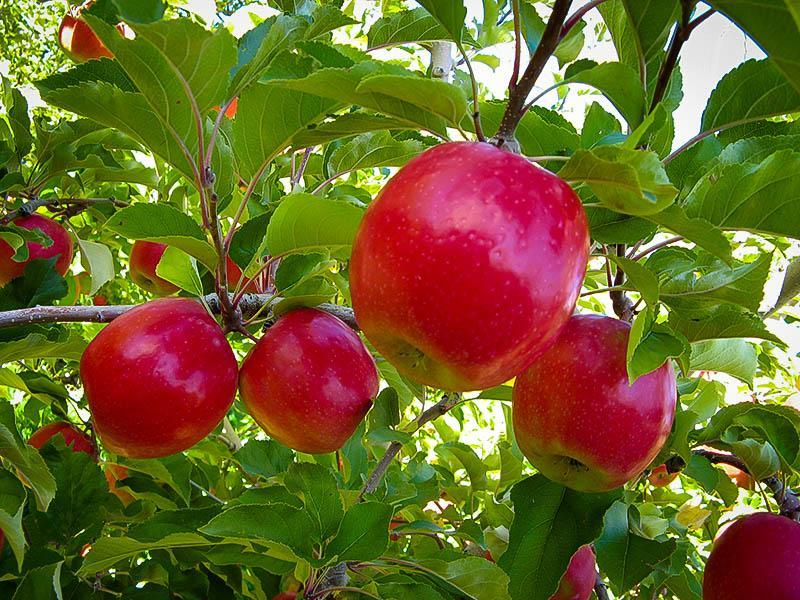apple: (346, 140, 585, 392), (508, 314, 676, 492), (77, 295, 238, 459), (236, 309, 376, 456), (701, 511, 800, 598), (1, 212, 70, 287)
